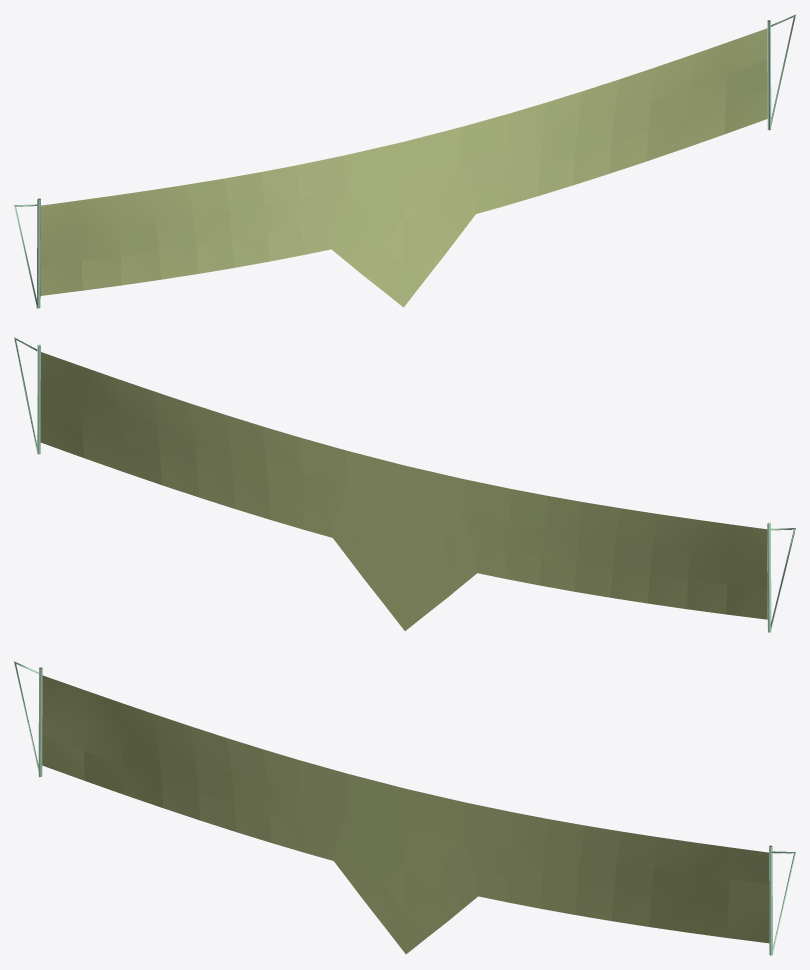
The model's file is banner_wall_2_8x1_b.glb.
3 renders of one model, top to bottom at view 1: azimuth 30°, elevation 25°; view 2: azimuth 150°, elevation 25°; view 3: azimuth 330°, elevation 25°, orthographic.
Bounding box in the file's own units: 21.4 × 5.2 × 0.1254.
